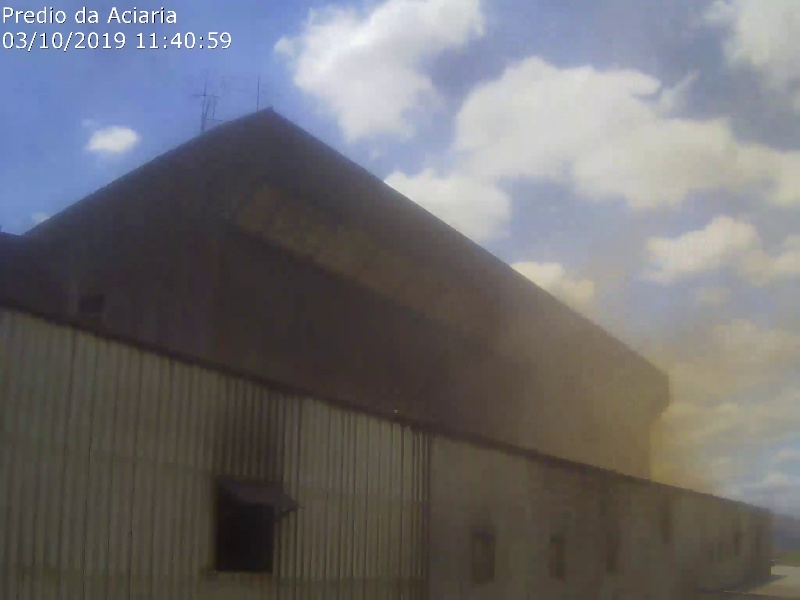bom: (261, 10, 485, 376), (1, 1, 284, 246)
pessimo: (527, 199, 800, 503)
